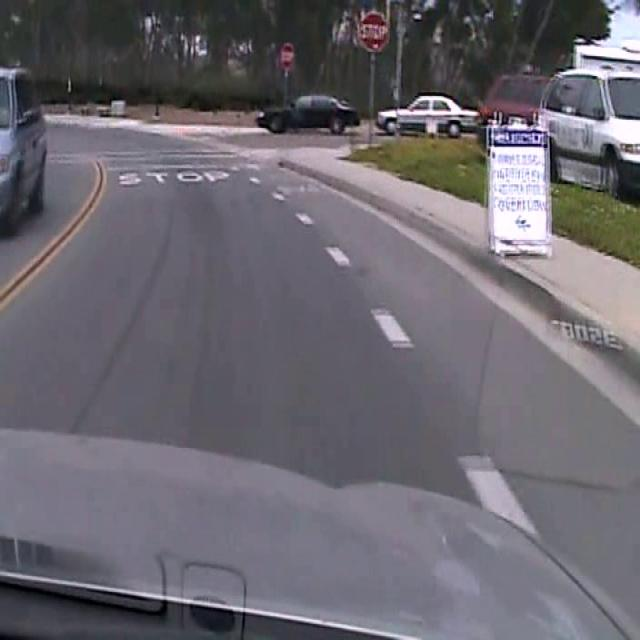stop: (358, 11, 388, 52), (279, 41, 296, 71)
